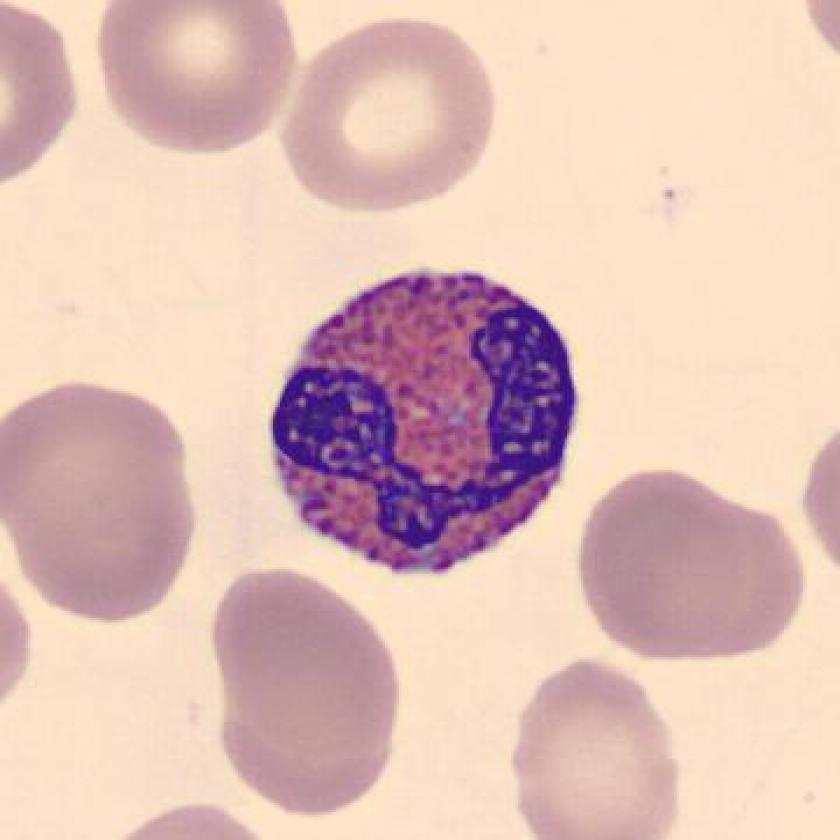eosinophil: (255, 253, 589, 591)
